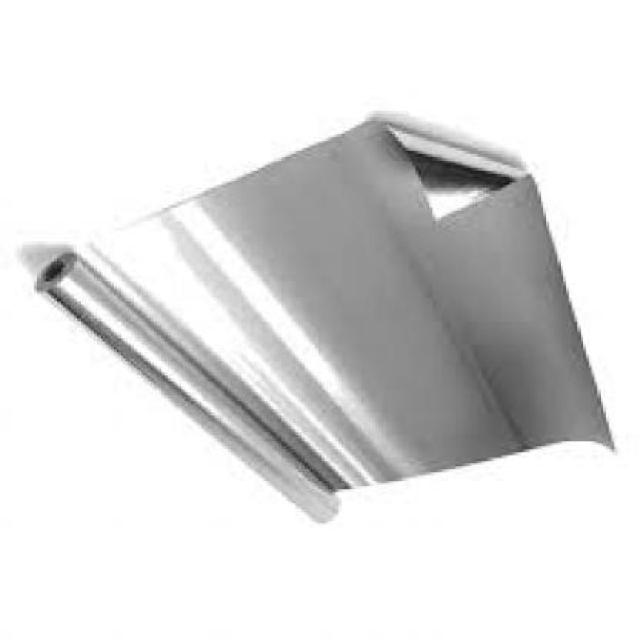METAL: (35, 122, 614, 528)
